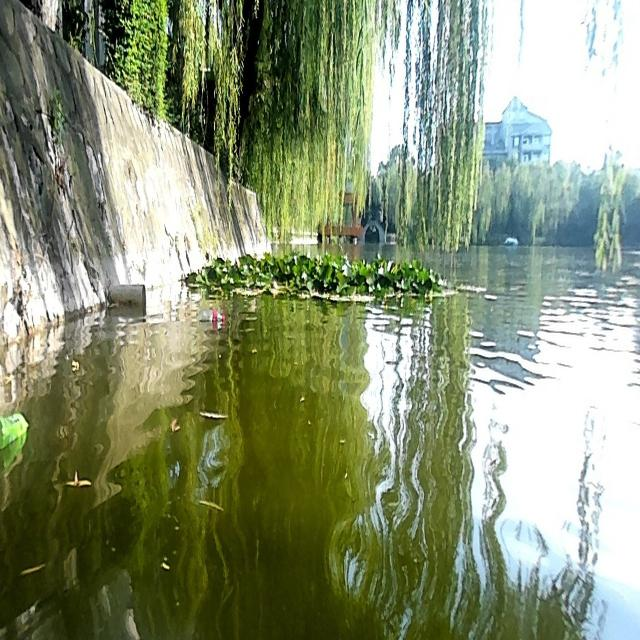bottle: (0, 407, 30, 448), (193, 307, 226, 323)
